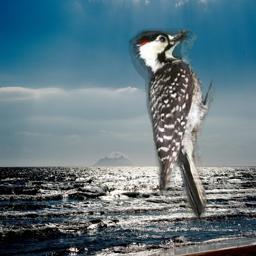Woodpecker: (126, 28, 220, 226)
